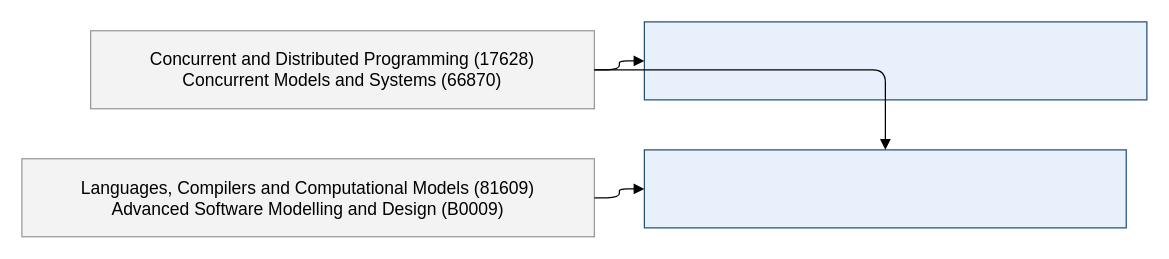
This 1169x259 diagram has some shape labels left out. The box of each missing label's shape, as (x1, y1, x2, y2) in pixels:
Behavioral and Temporal Analysis of Concurrency 3 ECTS: (643, 21, 1147, 100)
Concurrent Systems Models and Computability 3 ECTS: (643, 149, 1126, 228)
